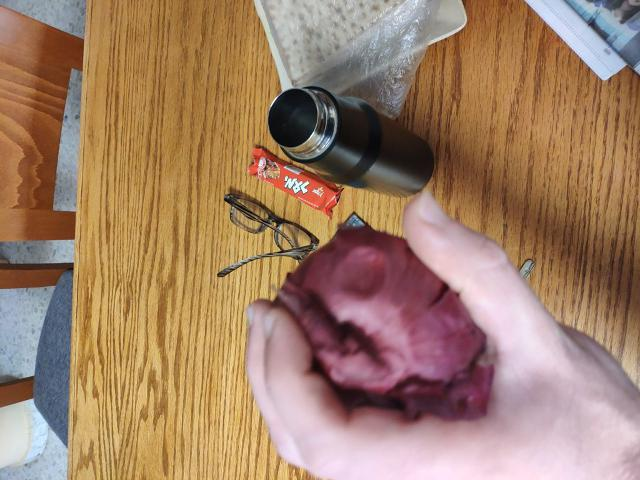onion: (309, 264, 459, 408)
